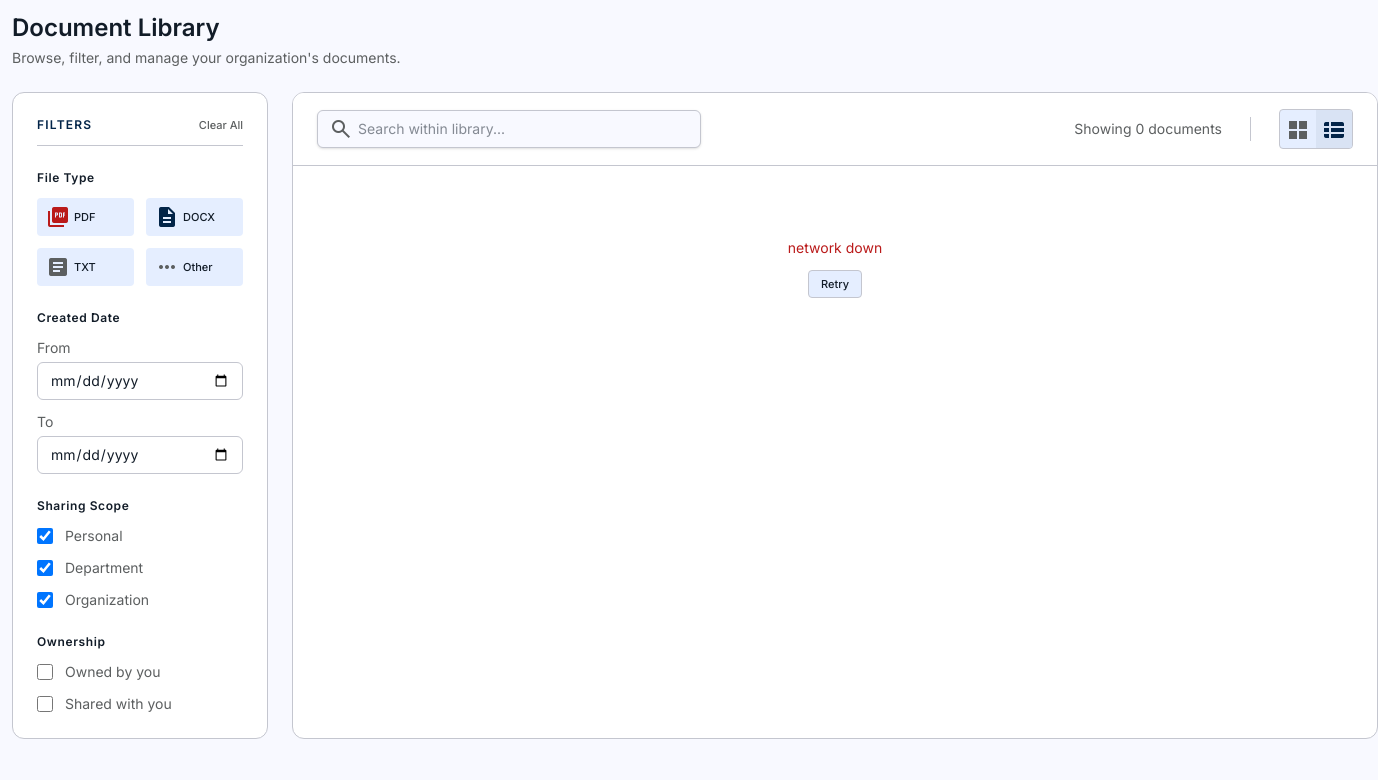
Test: DocumentLibraryPage › shows an error with a working Retry button
This screenshot has width=1378, height=780.
Click the button "Retry" at point(835, 284), box 808,270 -> 862,298
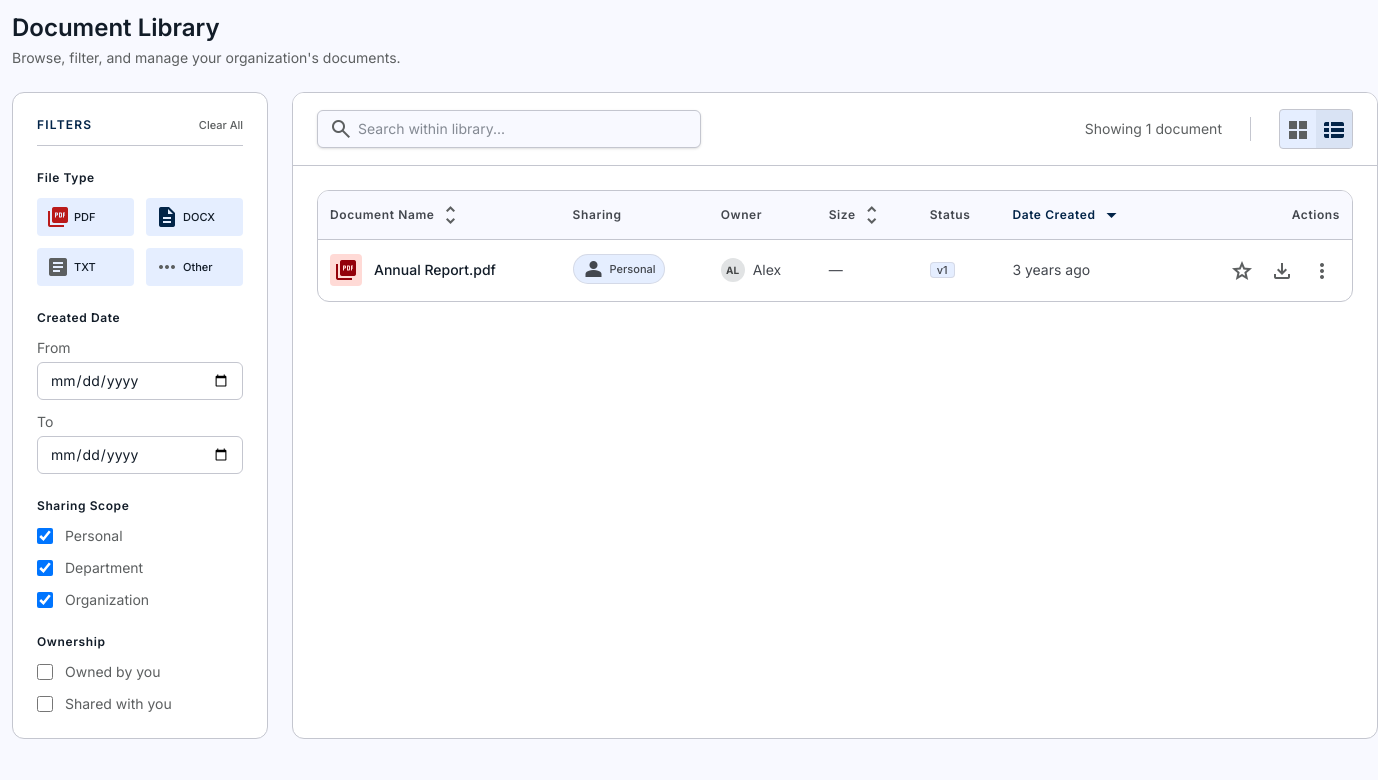
Now the text "Annual Report.pdf" is shown, box 374,260 -> 496,280
